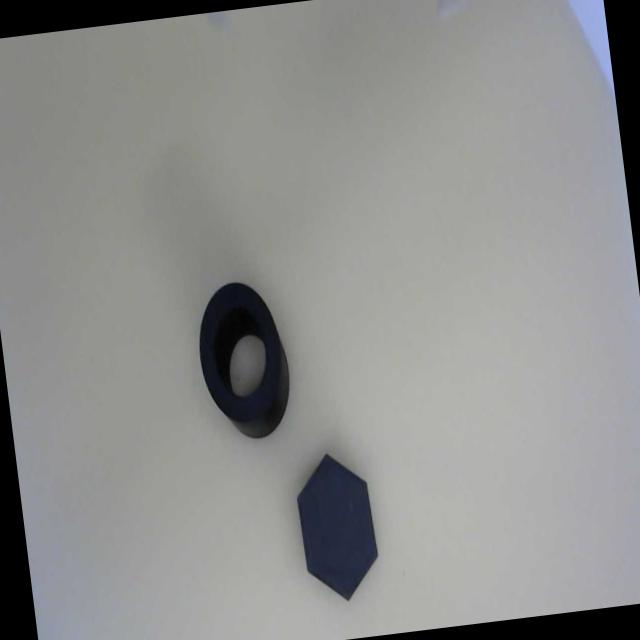hexagon: (288, 443, 382, 611)
